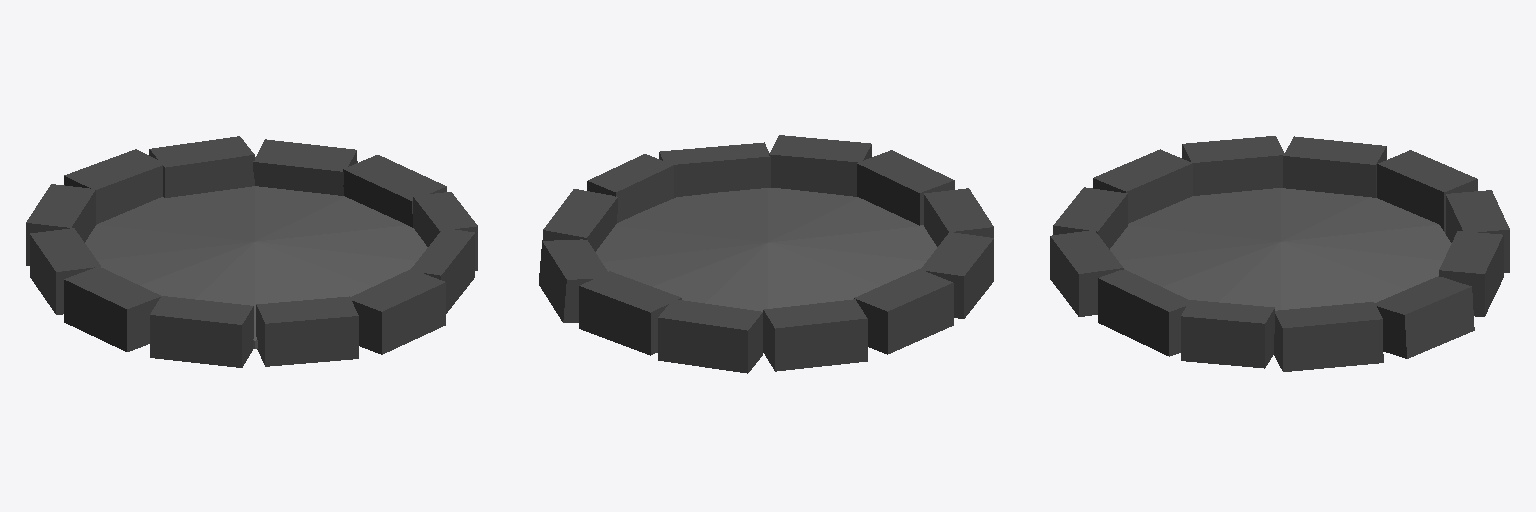
File: buildspot.obj
3 views of the same model, side by side, from view 1: azimuth 30°, elevation 25°; view 2: azimuth 150°, elevation 25°; view 3: azimuth 270°, elevation 25° (orthographic).
Visible parts, largest first — view 1: buildspot; view 2: buildspot; view 3: buildspot.
Boxes of the visible parts, <box> form: buildspot: <box>26,136,477,367</box>; buildspot: <box>539,135,993,373</box>; buildspot: <box>1050,136,1509,371</box>.
Bounding box in the file's own units: 2.45 × 0.3087 × 2.52.